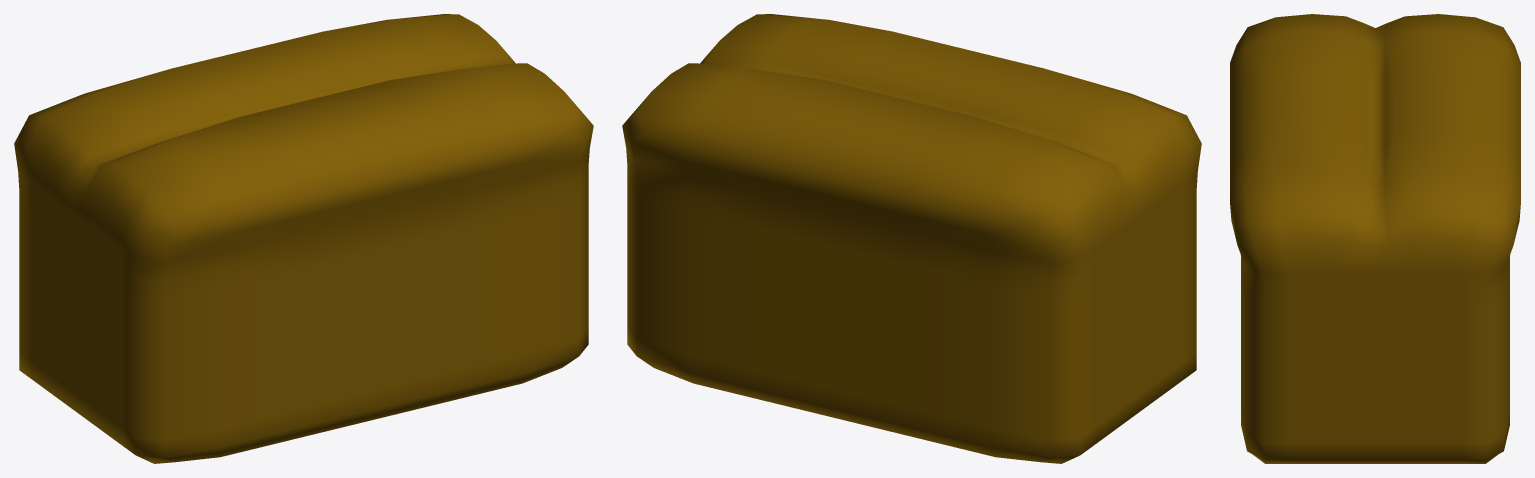
Rendered from bread.obj.
The picture shows the model from 3 angles, left to right: view 1: azimuth 30°, elevation 25°; view 2: azimuth 150°, elevation 25°; view 3: azimuth 270°, elevation 25°; orthographic projection. The views are drawn at different scales.
Parts seen in each view (by area): view 1: Box001; view 2: Box001; view 3: Box001.
Boxes of the visible parts, x1,y1,x2,y2 form: Box001: (14,14,593,463); Box001: (622,14,1201,463); Box001: (1230,14,1520,463).
Bounding box in the file's own units: 27.45 × 16.46 × 16.07.
